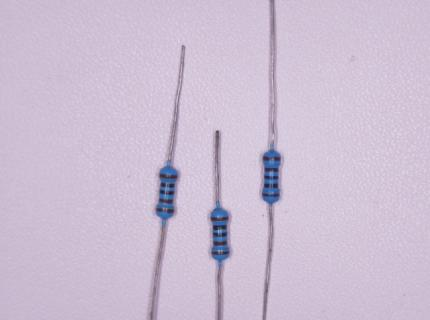Black band: (160, 182, 176, 188), (160, 189, 175, 195), (264, 183, 279, 189), (213, 232, 227, 238), (213, 225, 227, 230), (264, 175, 279, 179)
Brown band: (159, 173, 178, 180), (156, 207, 175, 214), (211, 251, 230, 256), (159, 198, 174, 204), (262, 193, 280, 198), (263, 156, 281, 161), (264, 167, 279, 172), (211, 217, 229, 221), (213, 241, 227, 246)
